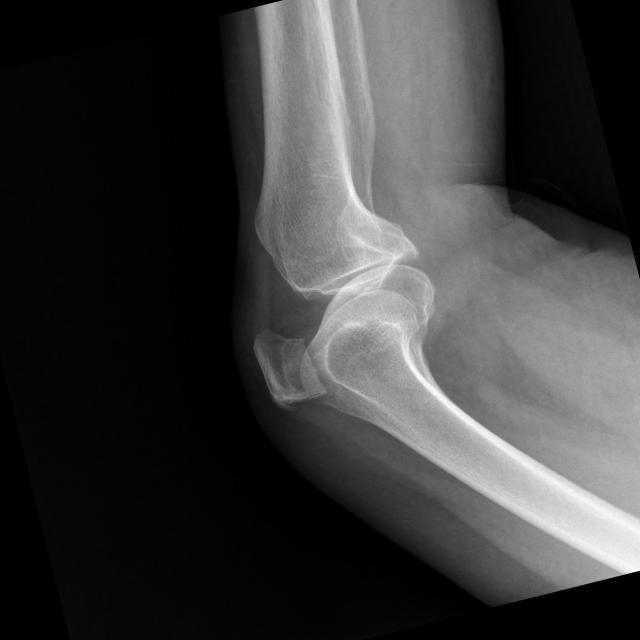Knee: (225, 190, 458, 417)
